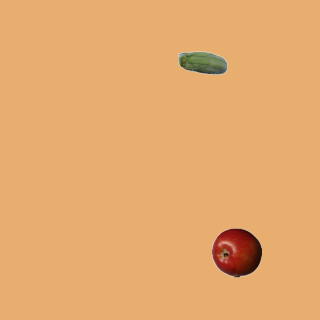Apple Braeburn: (211, 227, 261, 277)
Corn Husk: (177, 39, 227, 89)
